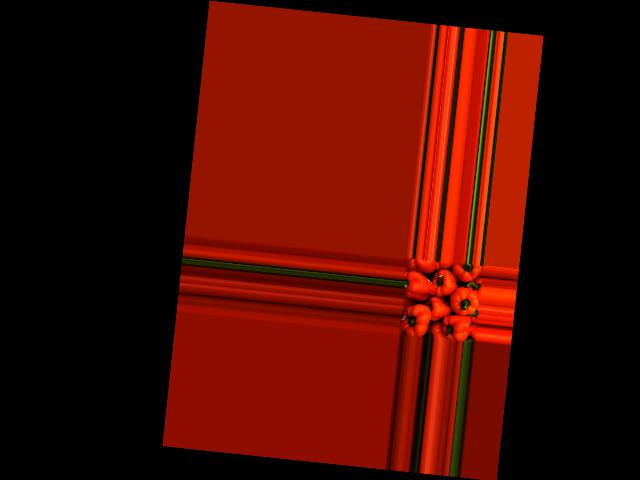bell_pepper: (404, 258, 436, 273)
